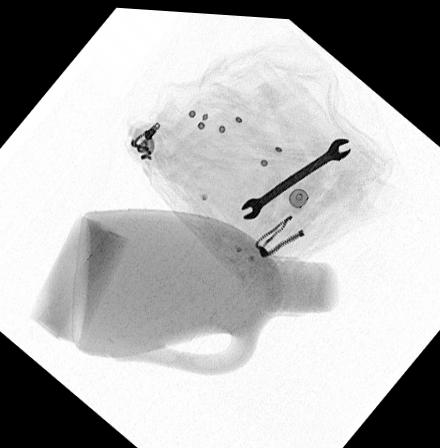Wrench: (238, 132, 354, 217)
